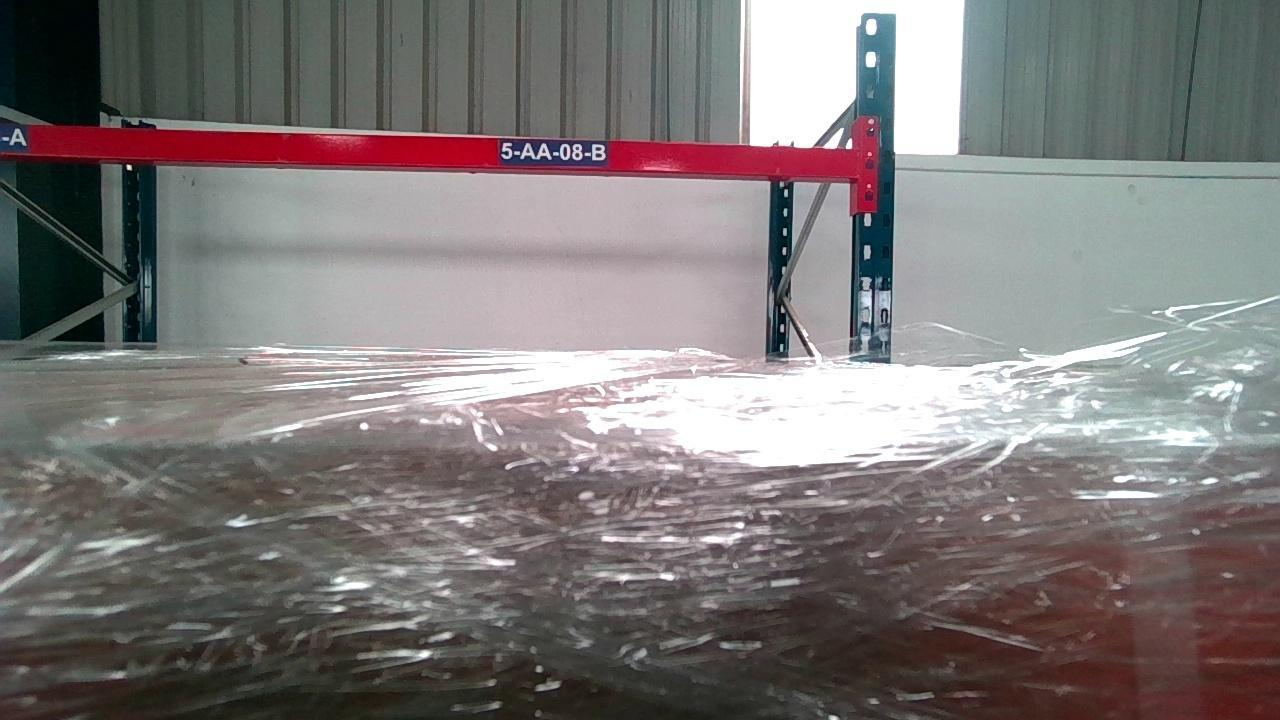h_rack: (2, 123, 858, 179)
